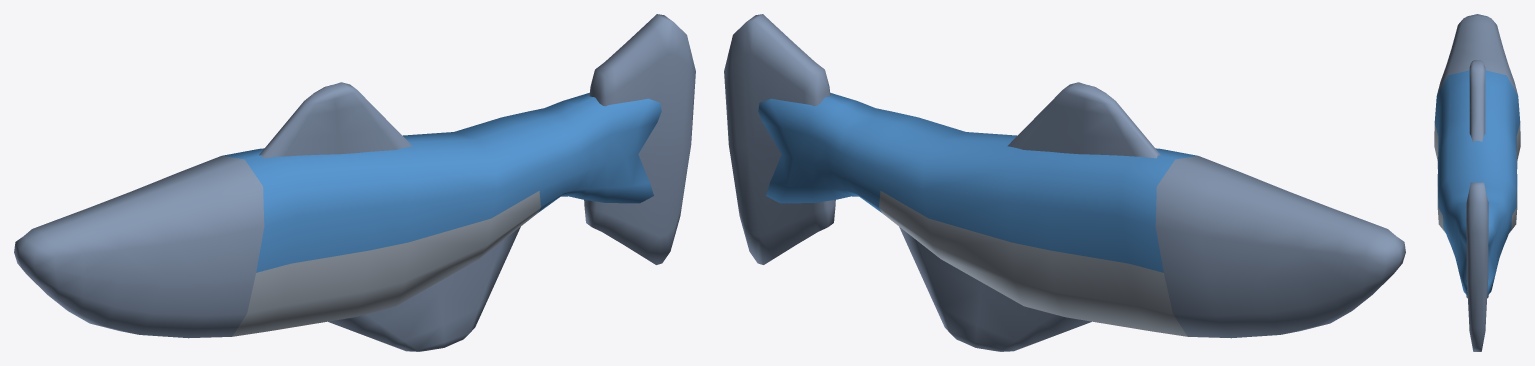
File: makrill.glb
3 renders of one model, left to right at view 1: azimuth 30°, elevation 25°; view 2: azimuth 150°, elevation 25°; view 3: azimuth 270°, elevation 25°, orthographic. The views are drawn at different scales.
Visible parts, largest first — view 1: Prop_Fish_Mackerel; view 2: Prop_Fish_Mackerel; view 3: Prop_Fish_Mackerel.
Boxes of the visible parts, x1,y1,x2,y2 form: Prop_Fish_Mackerel: (14, 14, 695, 351); Prop_Fish_Mackerel: (724, 14, 1405, 351); Prop_Fish_Mackerel: (1434, 14, 1520, 351).
Bounding box in the file's own units: 1.56 × 0.6294 × 0.2494.
Materials: 1 (1 with a texture image).
